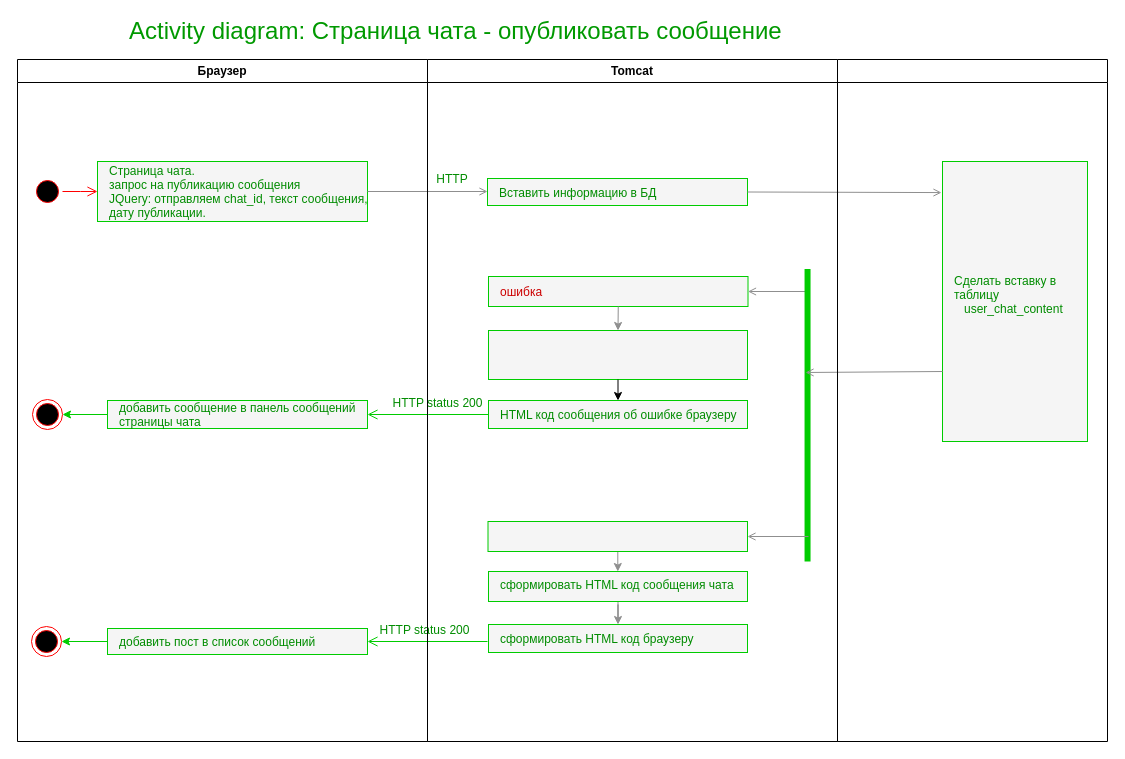
Image size: 1125x759. Some labels were removed from this diagram. The shapes that lost their labels are listed below. From the top down, each one's centre as x and y in pixels, then its label:
the point at 618,355: сформировать HTML код сообщения об ошибке.
the point at 972,400: PostgreSQL
the point at 617,536: сообщение сохранено в БД
